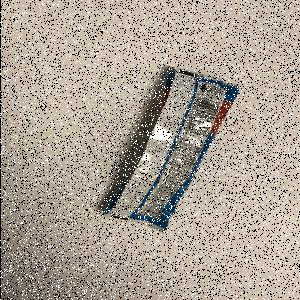Trash: (101, 66, 239, 234)
